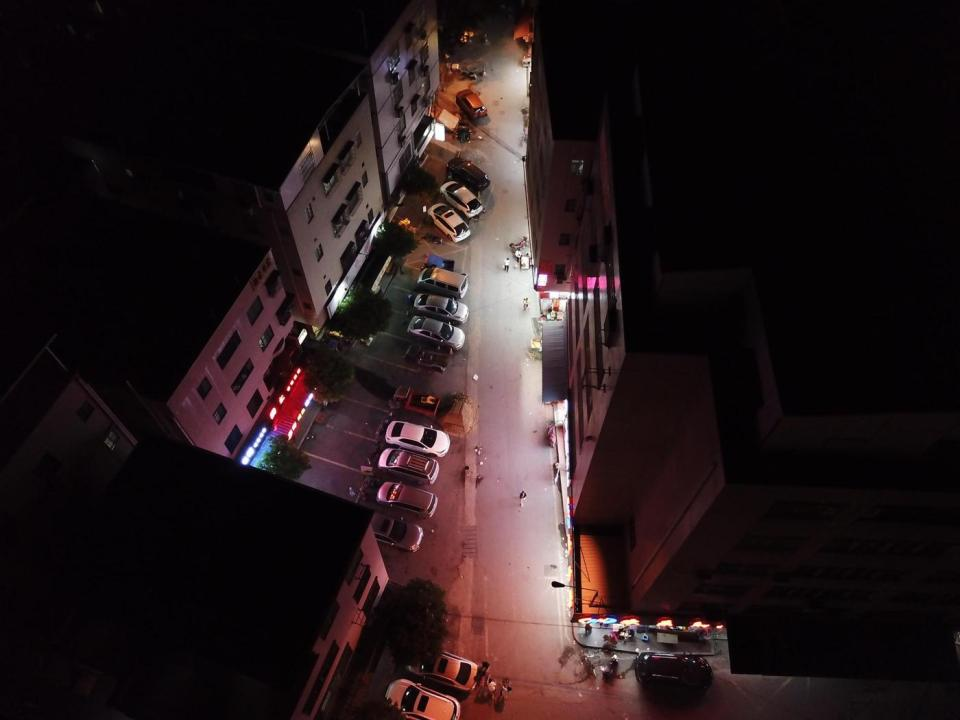car: (404, 650, 480, 694), (383, 677, 460, 720), (634, 651, 712, 692), (357, 508, 424, 553), (386, 420, 450, 457), (376, 448, 439, 485), (376, 480, 437, 518), (407, 316, 466, 351), (438, 180, 483, 220), (427, 202, 471, 242), (414, 293, 469, 324), (446, 157, 490, 191), (456, 89, 488, 122)
van: (418, 268, 470, 300)
